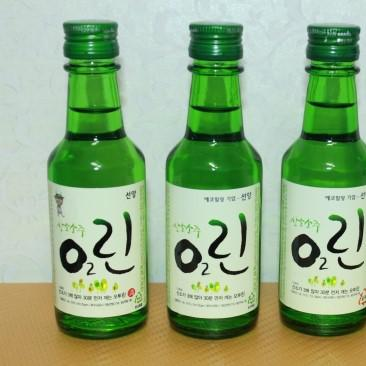soju: (34, 17, 366, 344)
